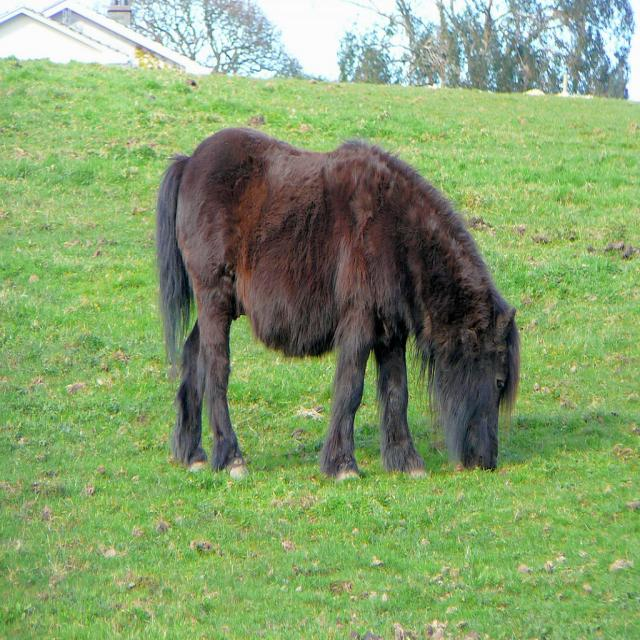Horse: (153, 125, 522, 484)
